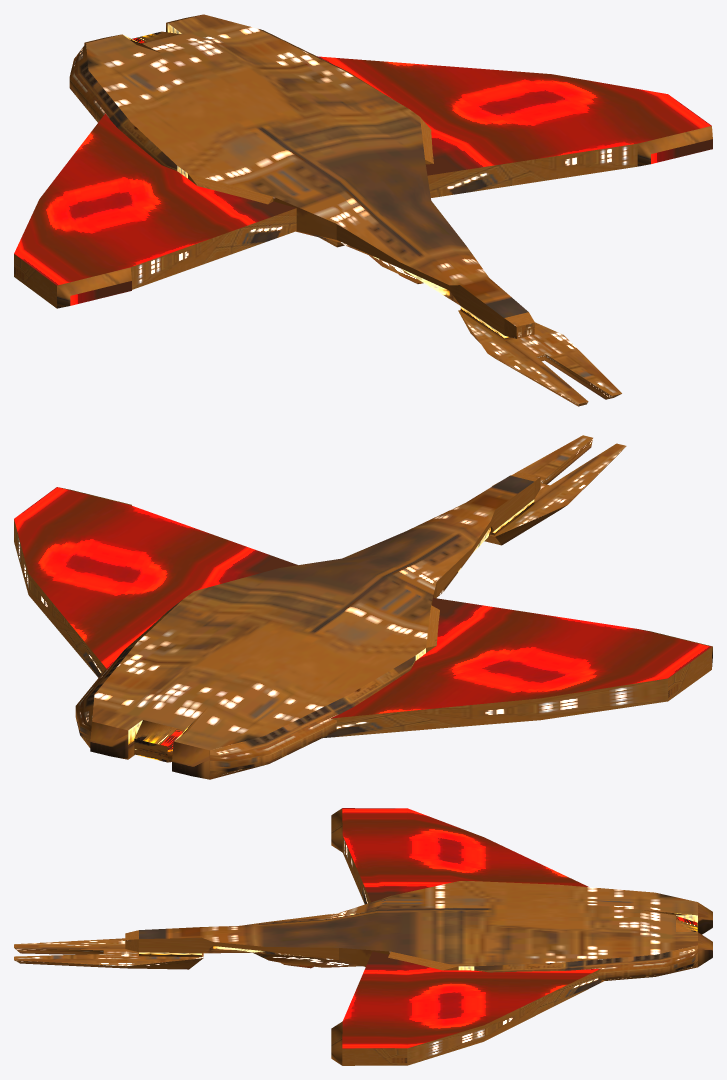
The model's file is Car_GulVystan.fbx.
3 views of the same model, one above another, from view 1: azimuth 30°, elevation 25°; view 2: azimuth 150°, elevation 25°; view 3: azimuth 270°, elevation 25° (orthographic). The views are drawn at different scales.
Parts seen in each view (by area): view 1: Car_GulVystan; view 2: Car_GulVystan; view 3: Car_GulVystan.
Boxes of the visible parts, bbox=[...] form: Car_GulVystan: bbox=[14, 14, 712, 406]; Car_GulVystan: bbox=[14, 435, 712, 779]; Car_GulVystan: bbox=[14, 808, 712, 1065].
Bounding box in the file's own units: 384 × 54.43 × 472.
Materials: 1 (1 with a texture image).
